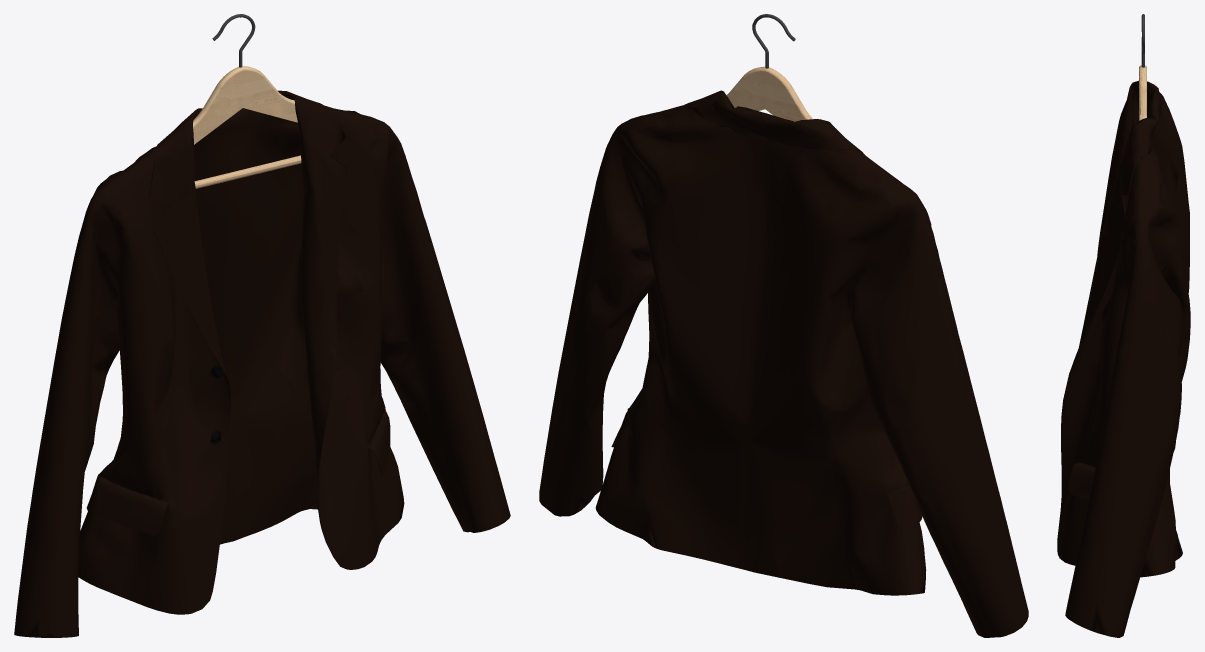
The model's file is Jacket.FBX.
The picture shows the model from 3 angles, left to right: view 1: azimuth 30°, elevation 25°; view 2: azimuth 150°, elevation 25°; view 3: azimuth 270°, elevation 25°; orthographic projection. The views are drawn at different scales.
Visible parts, largest first — view 1: jacket, hanger; view 2: jacket, hanger; view 3: jacket, hanger.
Part boxes in pixels (bbox=[...]): jacket: bbox=[14, 90, 510, 637]; hanger: bbox=[193, 14, 301, 188]; jacket: bbox=[539, 90, 1028, 637]; hanger: bbox=[726, 14, 812, 121]; jacket: bbox=[1057, 80, 1190, 637]; hanger: bbox=[1139, 14, 1146, 120].
Size of the model in its own units: 59.57 by 67.04 by 15.32.
